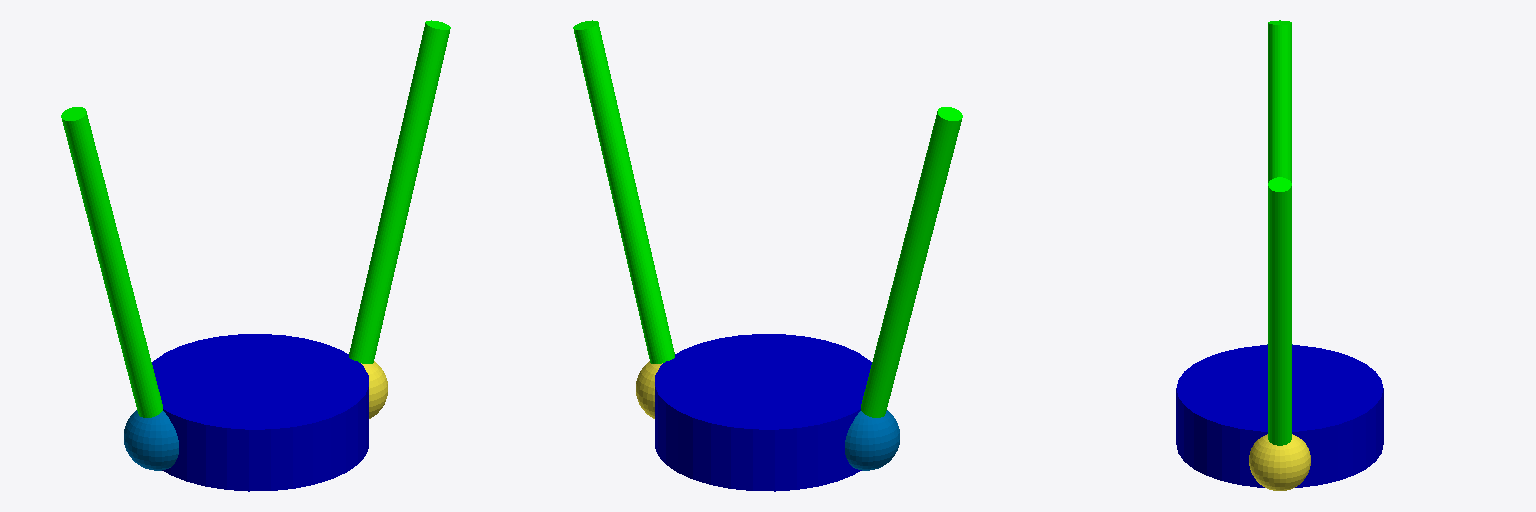
robot.urdf — gripper_2f_1j:
<?xml version='1.0' encoding='UTF-8'?>
<robot name="gripper_2f_1j">
  <link name="palm">
    <inertial>
      <origin xyz="0.0 0.0 0.0" rpy="0.0 -0.0 0.0"/>
      <mass value="1.0"/>
      <inertia ixx="1.0" ixy="0.0" ixz="0.0" iyy="1.0" iyz="0.0" izz="1.0"/>
    </inertial>
    <visual>
      <geometry>
        <cylinder radius="0.05" length="0.03"/>
      </geometry>
      <material name="blue"/>
      <origin xyz="0.0 0.0 0.0" rpy="0.0 -0.0 0.0"/>
    </visual>
    <collision>
      <geometry>
        <cylinder radius="0.05" length="0.03"/>
      </geometry>
      <origin xyz="0.0 0.0 0.0" rpy="0.0 0.0 0.0"/>
    </collision>
  </link>
  <link name="f11">
    <inertial>
      <origin xyz="0.0 0.0 0.0" rpy="0.0 -0.0 0.0"/>
      <mass value="1.0"/>
      <inertia ixx="1.0" ixy="0.0" ixz="0.0" iyy="1.0" iyz="0.0" izz="1.0"/>
    </inertial>
    <visual>
      <geometry>
        <cylinder radius="0.005707662200519865" length="0.1718863642225534"/>
      </geometry>
      <material name="green"/>
      <origin xyz="0.0 0.0 0.0859431821112767" rpy="0.0 -0.0 0.0"/>
    </visual>
    <collision>
      <geometry>
        <cylinder radius="0.005707662200519865" length="0.1718863642225534"/>
      </geometry>
      <origin xyz="0.0 0.0 0.05" rpy="0.0 0.0 0.0"/>
    </collision>
  </link>
  <link name="f21">
    <inertial>
      <origin xyz="0.0 0.0 0.0" rpy="0.0 -0.0 0.0"/>
      <mass value="1.0"/>
      <inertia ixx="1.0" ixy="0.0" ixz="0.0" iyy="1.0" iyz="0.0" izz="1.0"/>
    </inertial>
    <visual>
      <geometry>
        <cylinder radius="0.005707662200519865" length="0.1718863642225534"/>
      </geometry>
      <material name="green"/>
      <origin xyz="0.0 0.0 0.0859431821112767" rpy="0.0 -0.0 0.0"/>
    </visual>
    <collision>
      <geometry>
        <cylinder radius="0.005707662200519865" length="0.1718863642225534"/>
      </geometry>
      <origin xyz="0.0 0.0 0.05" rpy="0.0 0.0 0.0"/>
    </collision>
  </link>
  <link name="f11_base">
    <inertial>
      <origin xyz="0.0 0.0 0.0" rpy="0.0 -0.0 0.0"/>
      <mass value="1.0"/>
      <inertia ixx="1.0" ixy="0.0" ixz="0.0" iyy="1.0" iyz="0.0" izz="1.0"/>
    </inertial>
    <visual>
      <geometry>
        <sphere radius="0.015"/>
      </geometry>
      <origin xyz="0.0 0.0 0.0" rpy="0.0 -0.0 0.0"/>
    </visual>
  </link>
  <link name="f21_base">
    <inertial>
      <origin xyz="0.0 0.0 0.0" rpy="0.0 -0.0 0.0"/>
      <mass value="1.0"/>
      <inertia ixx="1.0" ixy="0.0" ixz="0.0" iyy="1.0" iyz="0.0" izz="1.0"/>
    </inertial>
    <visual>
      <geometry>
        <sphere radius="0.015"/>
      </geometry>
      <origin xyz="0.0 0.0 0.0" rpy="0.0 -0.0 0.0"/>
    </visual>
  </link>
  <joint name="f11_joint" type="revolute">
    <dynamics damping="100.0" friction="1.0"/>
    <limit effort="30.0" velocity="2.0" lower="-0.6" upper="0.25"/>
    <parent link="f11_base"/>
    <child link="f11"/>
    <axis xyz="0. 1. 0."/>
    <origin xyz="0.0 0.0 0.0" rpy="0.0 0.25 0.0"/>
  </joint>
  <joint name="f21_joint" type="revolute">
    <dynamics damping="100.0" friction="1.0"/>
    <limit effort="30.0" velocity="2.0" lower="-0.6" upper="0.25"/>
    <parent link="f21_base"/>
    <child link="f21"/>
    <axis xyz=" 0. -1.  0."/>
    <origin xyz="0.0 0.0 0.0" rpy="0.0 -0.25 0.0"/>
  </joint>
  <joint name="f11_base_joint" type="fixed">
    <parent link="palm"/>
    <child link="f11_base"/>
    <axis xyz="1. 0. 0."/>
    <origin xyz="0.05 0.0 0.0" rpy="0.0 0.0 0.0"/>
  </joint>
  <joint name="f21_base_joint" type="fixed">
    <parent link="palm"/>
    <child link="f21_base"/>
    <axis xyz="1. 0. 0."/>
    <origin xyz="-0.05 -0.0 0.0" rpy="0.0 0.0 0.0"/>
  </joint>
  <material name="blue">
    <color rgba="0.  0.  0.8 1. "/>
  </material>
  <material name="green">
    <color rgba="0. 1. 0. 1."/>
  </material>
</robot>

--- Facts derived from the render (not from the file) ---
The picture shows the robot from 3 angles, left to right: view 1: azimuth 30°, elevation 25°; view 2: azimuth 150°, elevation 25°; view 3: azimuth 270°, elevation 25°; orthographic projection.
Robot: gripper_2f_1j — 5 links, 4 joints (2 revolute, 2 fixed); root link palm; default pose: all joints at 0.
Links seen in each view (by area): view 1: palm, f11, f21, f21_base, f11_base; view 2: palm, f11, f21, f21_base, f11_base; view 3: palm, f11, f21, f11_base.
Link boxes in pixels (x1,y1,x2,y2): palm: [152, 334, 368, 491]; f11: [349, 20, 450, 363]; f21: [61, 107, 162, 417]; f21_base: [124, 410, 178, 470]; f11_base: [361, 361, 387, 418]; palm: [655, 334, 871, 491]; f11: [573, 20, 674, 363]; f21: [861, 107, 962, 417]; f21_base: [845, 410, 899, 470]; f11_base: [636, 361, 662, 418]; palm: [1176, 345, 1383, 487]; f11: [1268, 177, 1291, 445]; f21: [1268, 20, 1291, 182]; f11_base: [1249, 434, 1310, 490].
Bounding box of the posed robot: 0.1961 × 0.1 × 0.183 m (x, y, z).
Geometry: primitives only (box / cylinder / sphere), no mesh files.